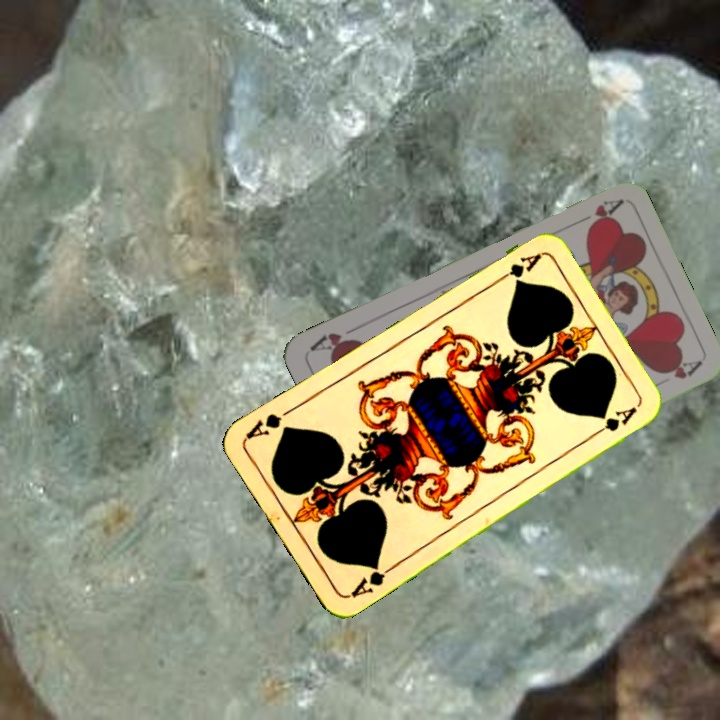GA: (345, 559, 398, 601), (490, 249, 544, 287)
HA: (567, 195, 624, 233)
